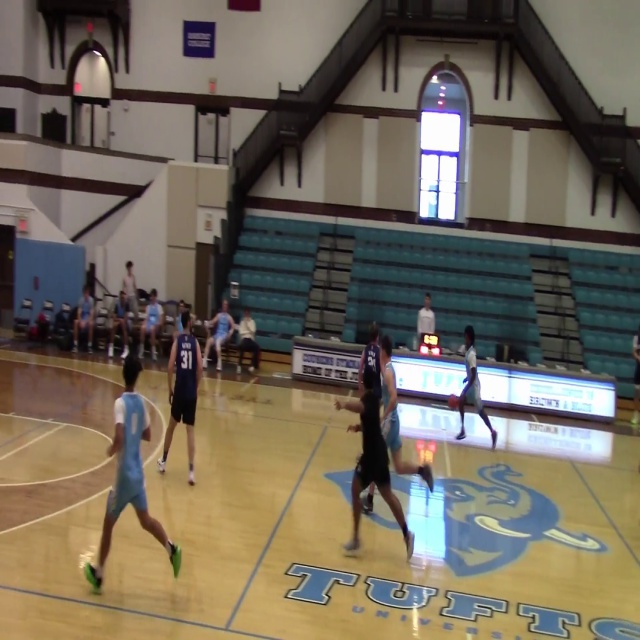Basketball: (447, 394, 459, 410)
